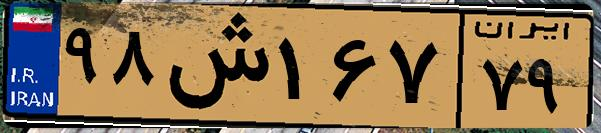1: (270, 28, 330, 110)
6: (330, 28, 385, 110)
7: (385, 28, 445, 110), (475, 38, 525, 113)
8: (110, 28, 158, 98)
9: (57, 26, 110, 100), (525, 38, 570, 115)
ش: (158, 12, 270, 120)
